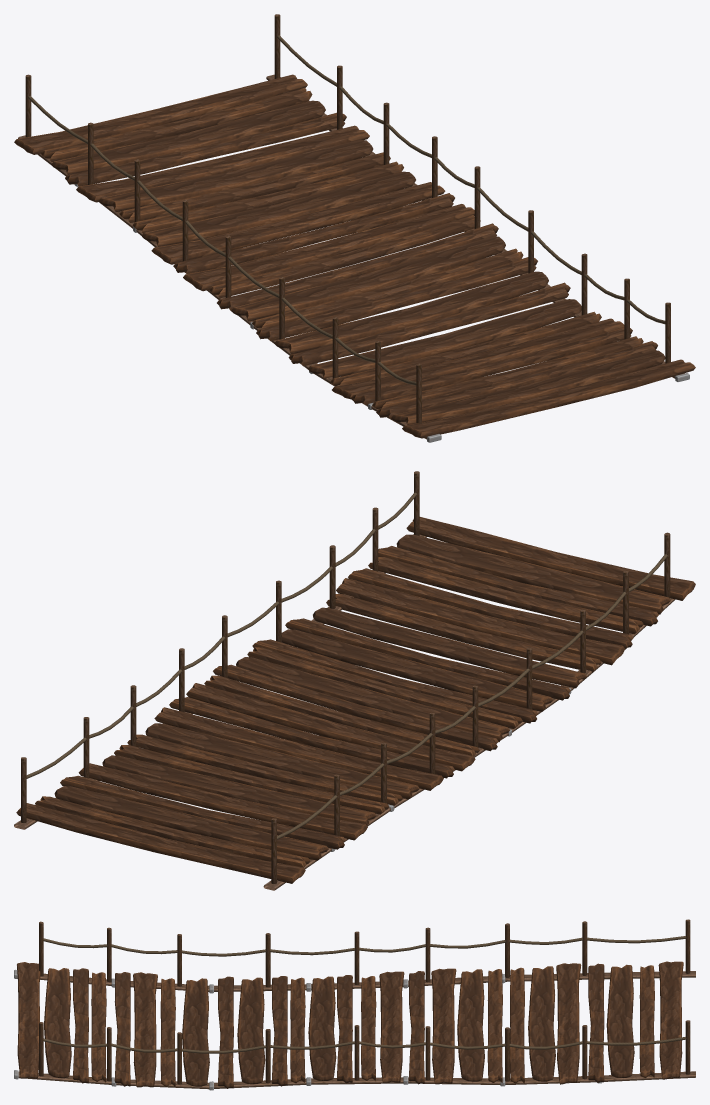
File: Bridge.fbx
3 views of the same model, one above another, from view 1: azimuth 30°, elevation 25°; view 2: azimuth 150°, elevation 25°; view 3: azimuth 270°, elevation 25° (orthographic). The views are drawn at different scales.
Visible parts, largest first — view 1: WoodSup_low11; view 2: WoodSup_low11; view 3: WoodSup_low11.
Part boxes in pixels (bbox=[...]): WoodSup_low11: bbox=[14, 14, 695, 442]; WoodSup_low11: bbox=[14, 471, 695, 890]; WoodSup_low11: bbox=[14, 919, 695, 1090].
Size of the model in its own units: 181 by 52.65 by 460.
